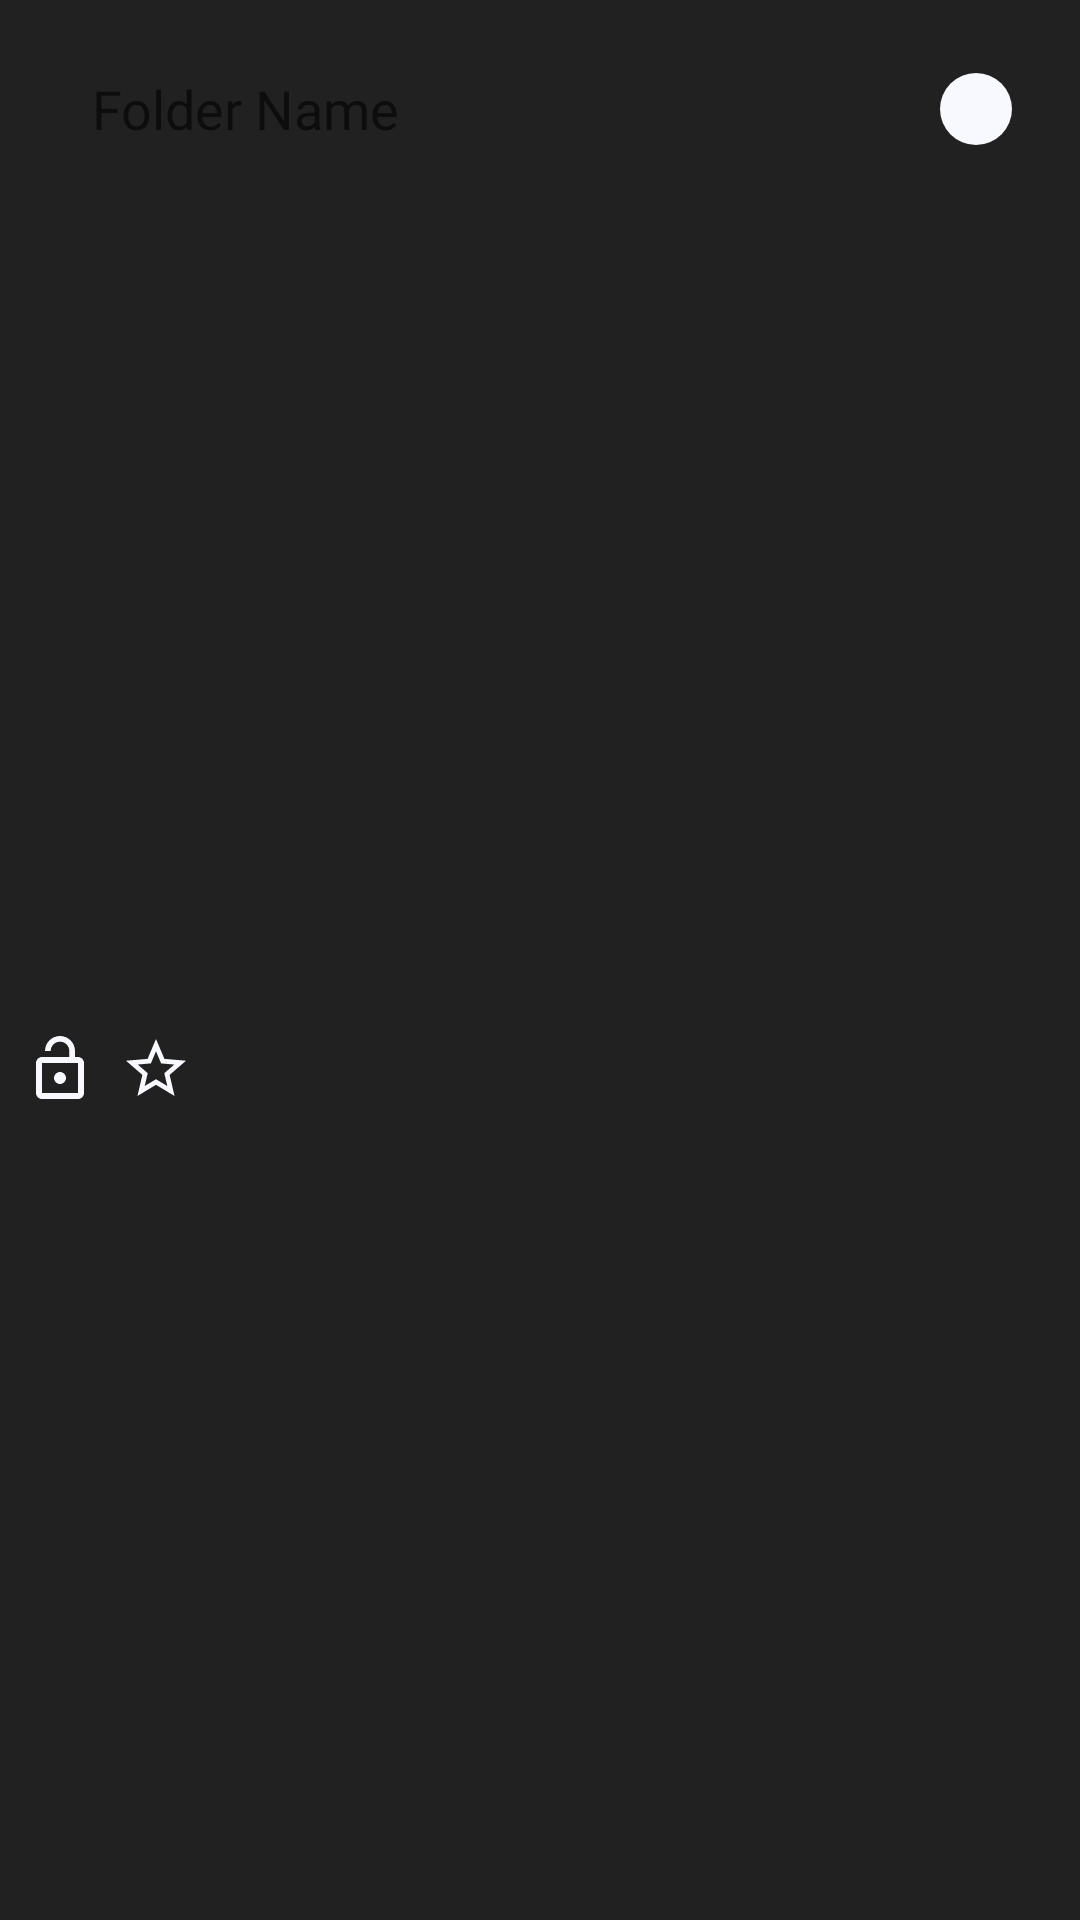

Named icons in this screenshot (1080 x 1920) and their centers, point (x, y):
lock open: point (60, 1067)
star border: point (156, 1067)
